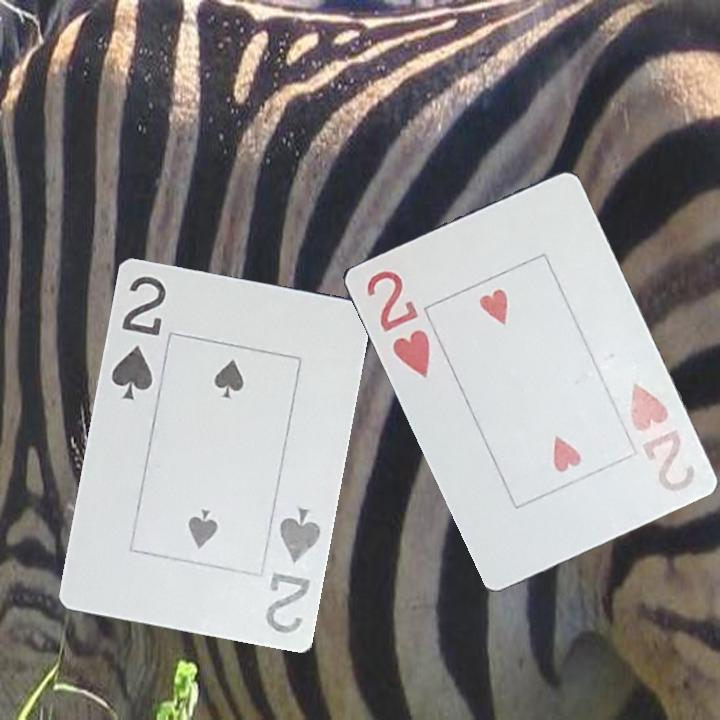2h: (618, 378, 697, 498), (362, 266, 433, 382)
2s: (106, 272, 169, 403), (261, 503, 323, 636)
